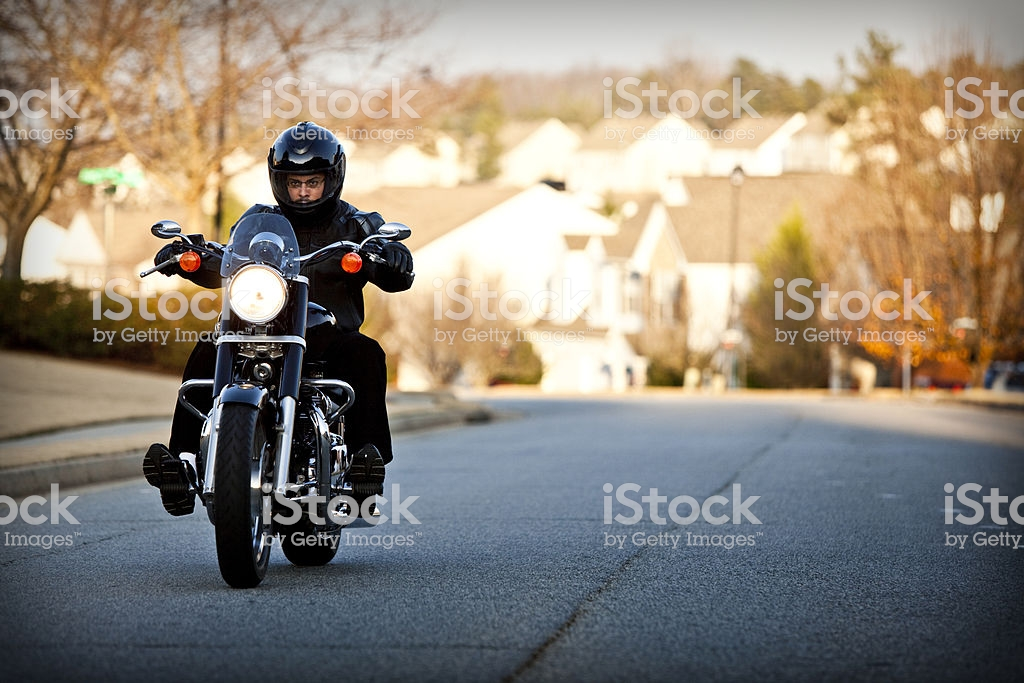helmet: (266, 121, 349, 221)
